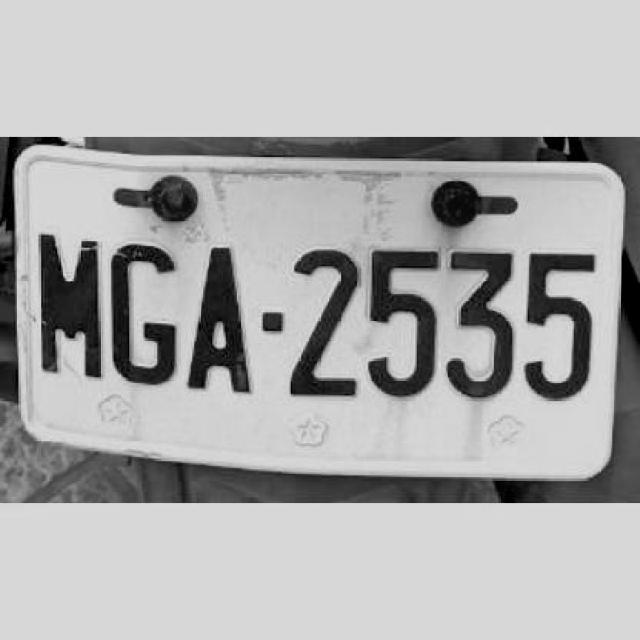-: (260, 306, 285, 336)
2: (284, 243, 358, 403)
3: (441, 242, 517, 402)
5: (520, 238, 597, 408), (363, 243, 440, 400)
A: (183, 238, 252, 400)
G: (106, 239, 177, 386)
M: (32, 230, 103, 384)
